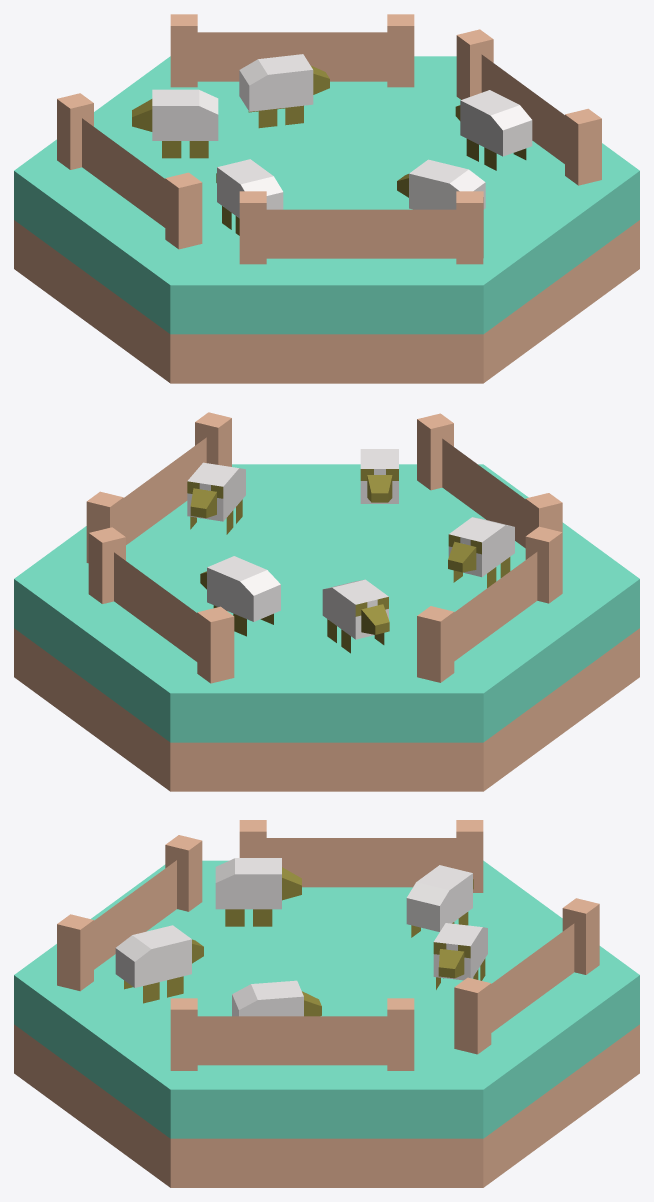
The model's file is sheep-transformed.glb.
3 views of the same model, one above another, from view 1: azimuth 30°, elevation 25°; view 2: azimuth 150°, elevation 25°; view 3: azimuth 270°, elevation 25° (orthographic).
Visible parts, largest first — view 1: building_sheep, sheep1; view 2: building_sheep, sheep1; view 3: building_sheep, sheep1.
Part boxes in pixels (x1,y1,x2,y2): building_sheep: (14, 14, 639, 383); sheep1: (132, 54, 532, 235); building_sheep: (14, 412, 639, 791); sheep1: (187, 449, 514, 653); building_sheep: (14, 820, 639, 1187); sheep1: (115, 858, 487, 1016).
Bounding box in the file's own units: 1 × 0.325 × 1.15.
